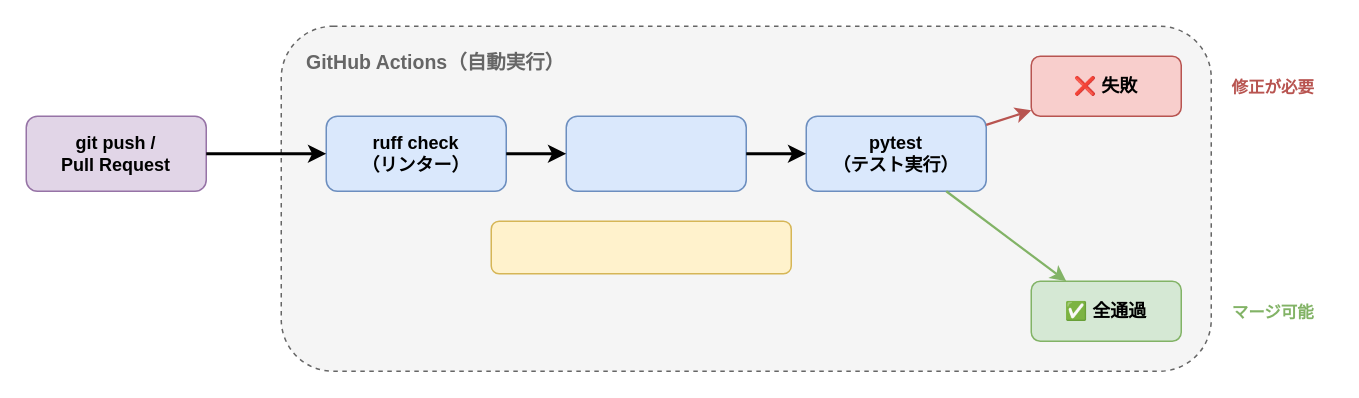
The diagram is 1359 pixels wide and 398 high, and some of its shapes have lost their labels. The shapes that lost their labels are listed below. From the top down, each one's centre as x and y in pixels, then its label:
At point 655,153: "mypy （型チェック）".
At point 640,247: "Python 3.10 / 3.11 / 3.12 （マトリクスビルド）".
